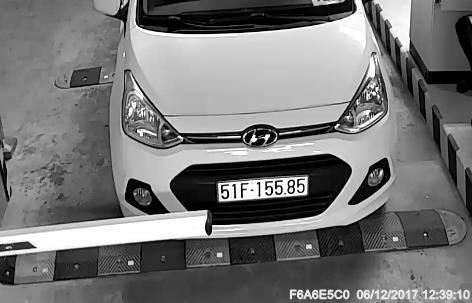License-plate: (214, 170, 318, 209)
